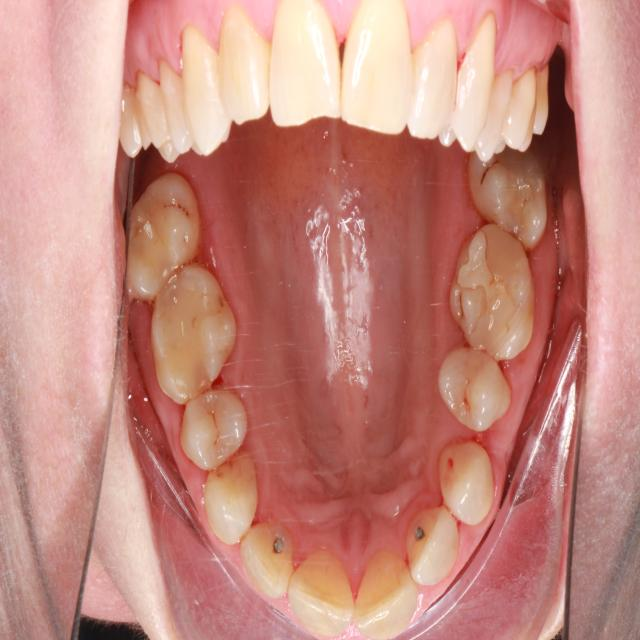tooth: (440, 213, 545, 381), (143, 258, 251, 417), (119, 174, 219, 319), (458, 139, 555, 259), (172, 385, 268, 481), (435, 346, 524, 447), (345, 538, 424, 640), (194, 454, 273, 555), (428, 426, 504, 529), (281, 545, 362, 640), (241, 514, 309, 623), (398, 507, 470, 595)
